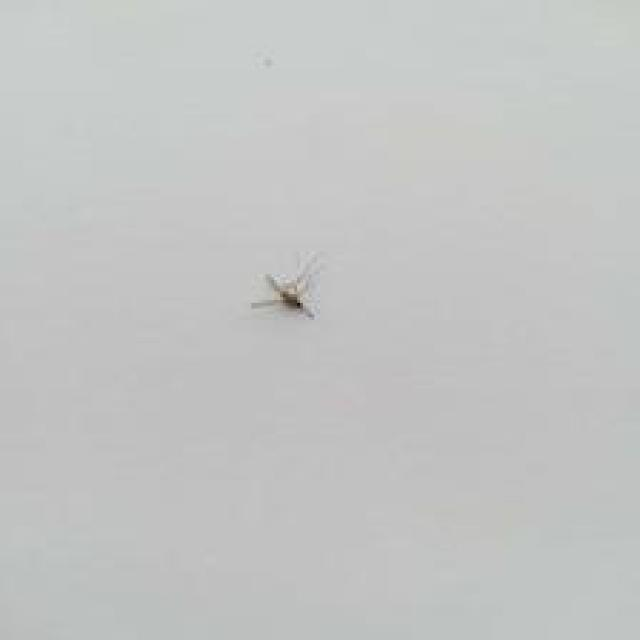Culex: (250, 251, 321, 320)
